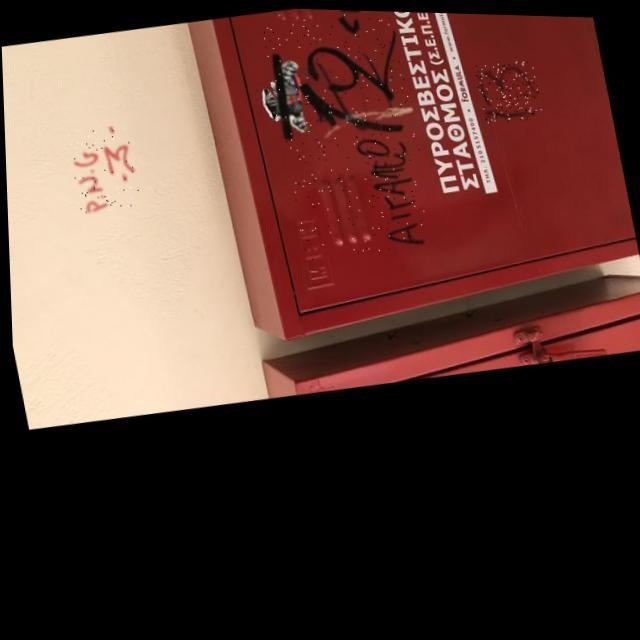-: (258, 6, 436, 262), (65, 121, 143, 216), (472, 54, 542, 124)
